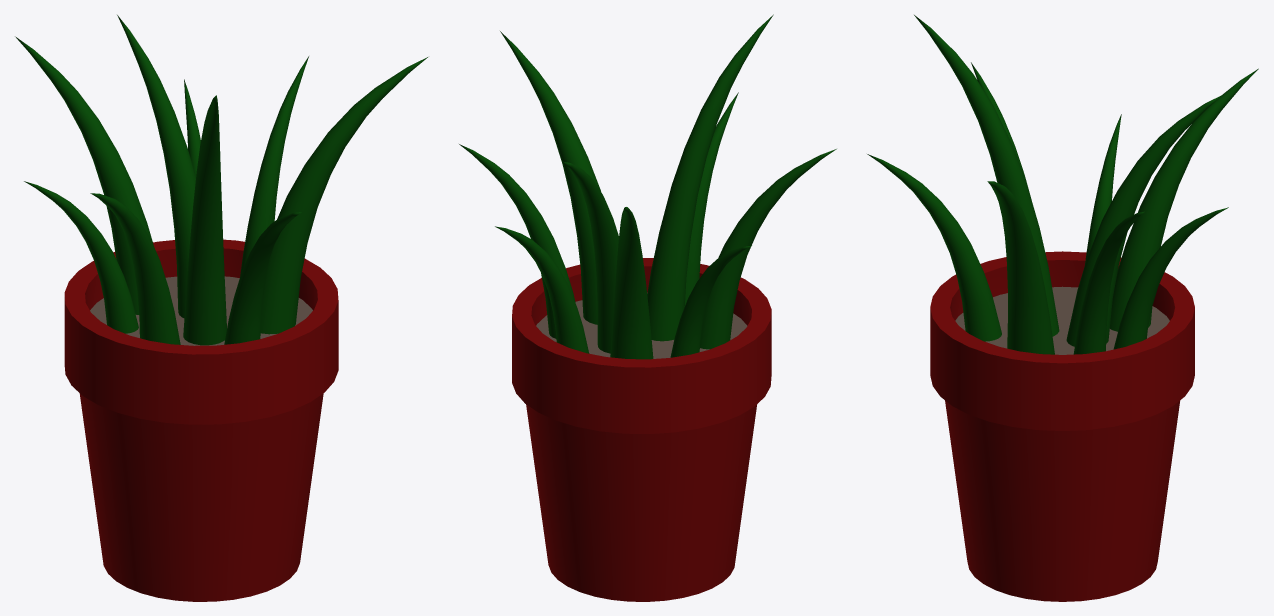
The model's file is Plante6_4.fbx.
The picture shows the model from 3 angles, left to right: view 1: azimuth 30°, elevation 25°; view 2: azimuth 150°, elevation 25°; view 3: azimuth 270°, elevation 25°; orthographic projection. The views are drawn at different scales.
Visible parts, largest first — view 1: pCylinder717, pCone5, pCone7, pCone4, pCone9, pCone2, pCone3, pCone1, pCone8, pCylinder721, pCone6; view 2: pCylinder717, pCone7, pCone5, pCone2, pCone4, pCone9, pCone6, pCone8, pCone3, pCone1, pCylinder721; view 3: pCylinder717, pCone4, pCone5, pCone7, pCone1, pCone9, pCone8, pCone6, pCylinder721, pCone3.
Part boxes in pixels (x1,y1,x2,y2): pCylinder717: [64, 239, 338, 601]; pCone5: [260, 57, 427, 334]; pCone7: [183, 95, 226, 345]; pCone4: [15, 36, 153, 314]; pCone9: [117, 15, 195, 317]; pCone2: [90, 193, 180, 344]; pCone3: [24, 181, 138, 333]; pCone1: [224, 212, 301, 344]; pCone8: [240, 56, 308, 275]; pCylinder721: [90, 276, 312, 345]; pCone6: [184, 79, 200, 176]; pCylinder717: [512, 258, 771, 601]; pCone7: [647, 14, 773, 341]; pCone5: [500, 31, 600, 324]; pCone2: [700, 149, 836, 349]; pCone4: [610, 207, 653, 359]; pCone9: [563, 161, 618, 353]; pCone6: [495, 226, 589, 353]; pCone8: [459, 144, 575, 338]; pCone3: [670, 245, 751, 357]; pCone1: [684, 92, 738, 306]; pCylinder721: [536, 292, 747, 358]; pCylinder717: [930, 251, 1194, 601]; pCone4: [1110, 68, 1258, 331]; pCone5: [987, 181, 1054, 354]; pCone7: [914, 15, 1059, 336]; pCone1: [867, 154, 1001, 341]; pCone9: [1066, 94, 1223, 346]; pCone8: [1073, 211, 1144, 354]; pCone6: [1113, 207, 1228, 349]; pCylinder721: [955, 286, 1169, 354]; pCone3: [1085, 114, 1121, 264].
Bounding box in the file's own units: 16.41 × 24.2 × 16.64.
